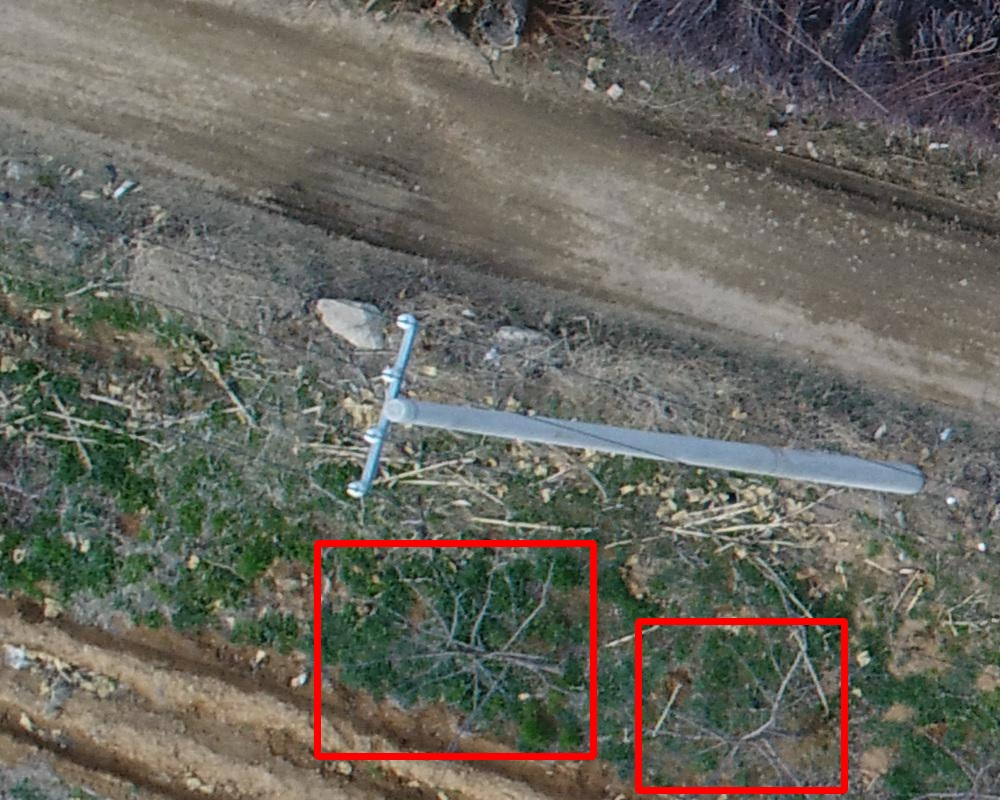apple: (317, 543, 593, 756), (638, 621, 844, 790)
